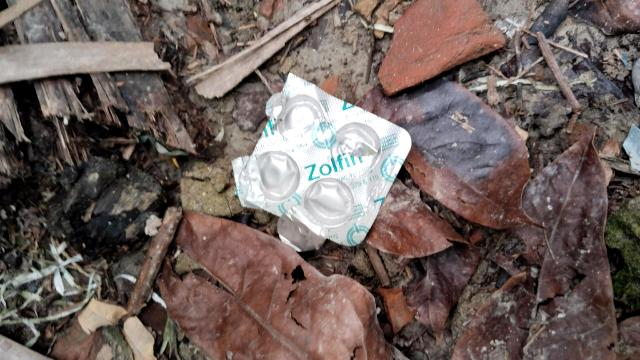medicine: (226, 71, 414, 254)
